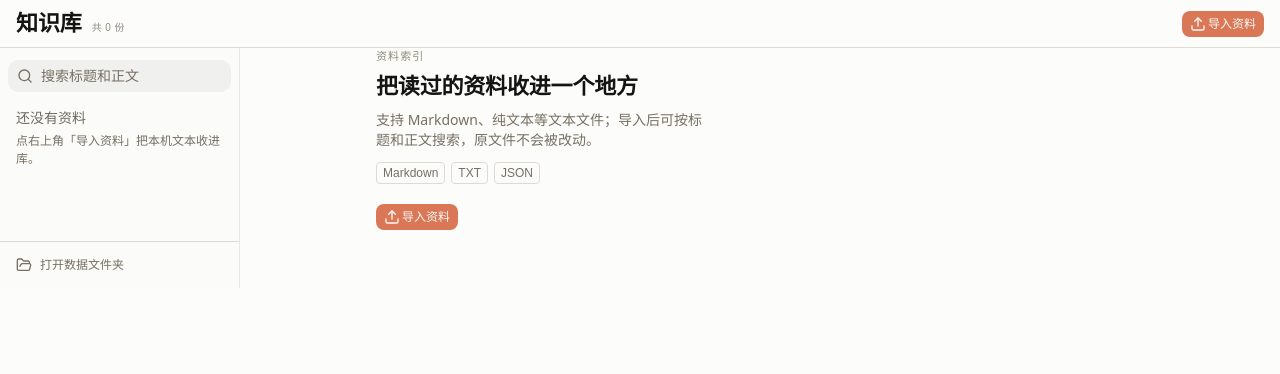
Scenario: 知识库：空态与导入 › 导入：成功后列表出现、自动选中并读正文；跳过项如实展示原因
Expected: the element with test id "knowledge-empty" is shown, [376, 50, 702, 230]
Click the button with test id "knowledge-import" at coordinates (1223, 24), box [1182, 10, 1264, 36]
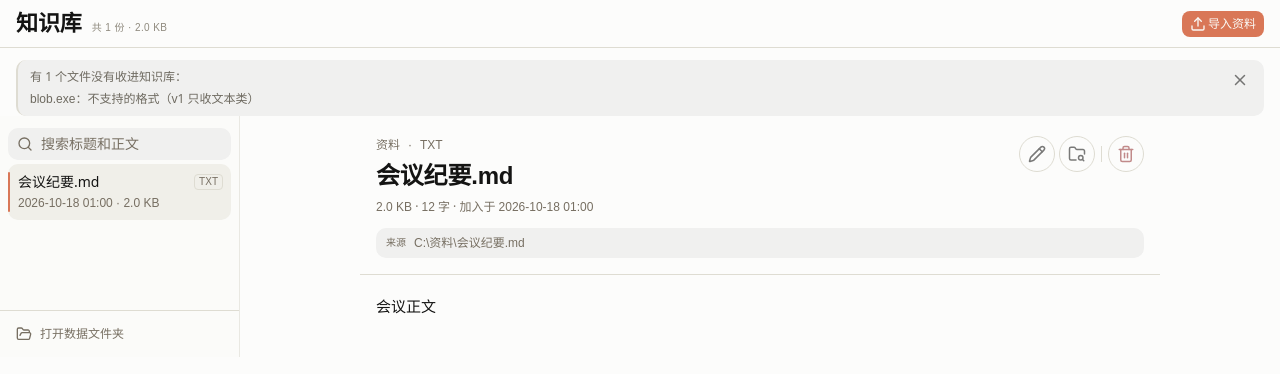
Expected: the button with test id "knowledge-item" shows "会议纪要.md", [8, 164, 231, 220]
Expected: the heading with test id "knowledge-detail-title" reads "会议纪要.md", [376, 162, 513, 189]
Expected: the element with test id "knowledge-text" reads "会议正文", [376, 296, 436, 316]
Click the button with test id "knowledge-skipped-dismiss" at coordinates (1240, 80), box [1228, 68, 1252, 92]
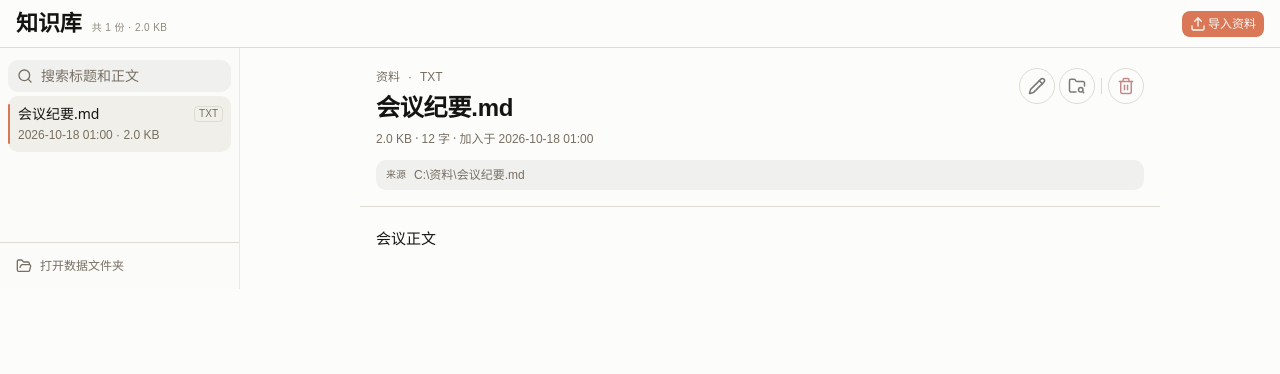
Expected: the element with test id "knowledge-skipped" is gone
